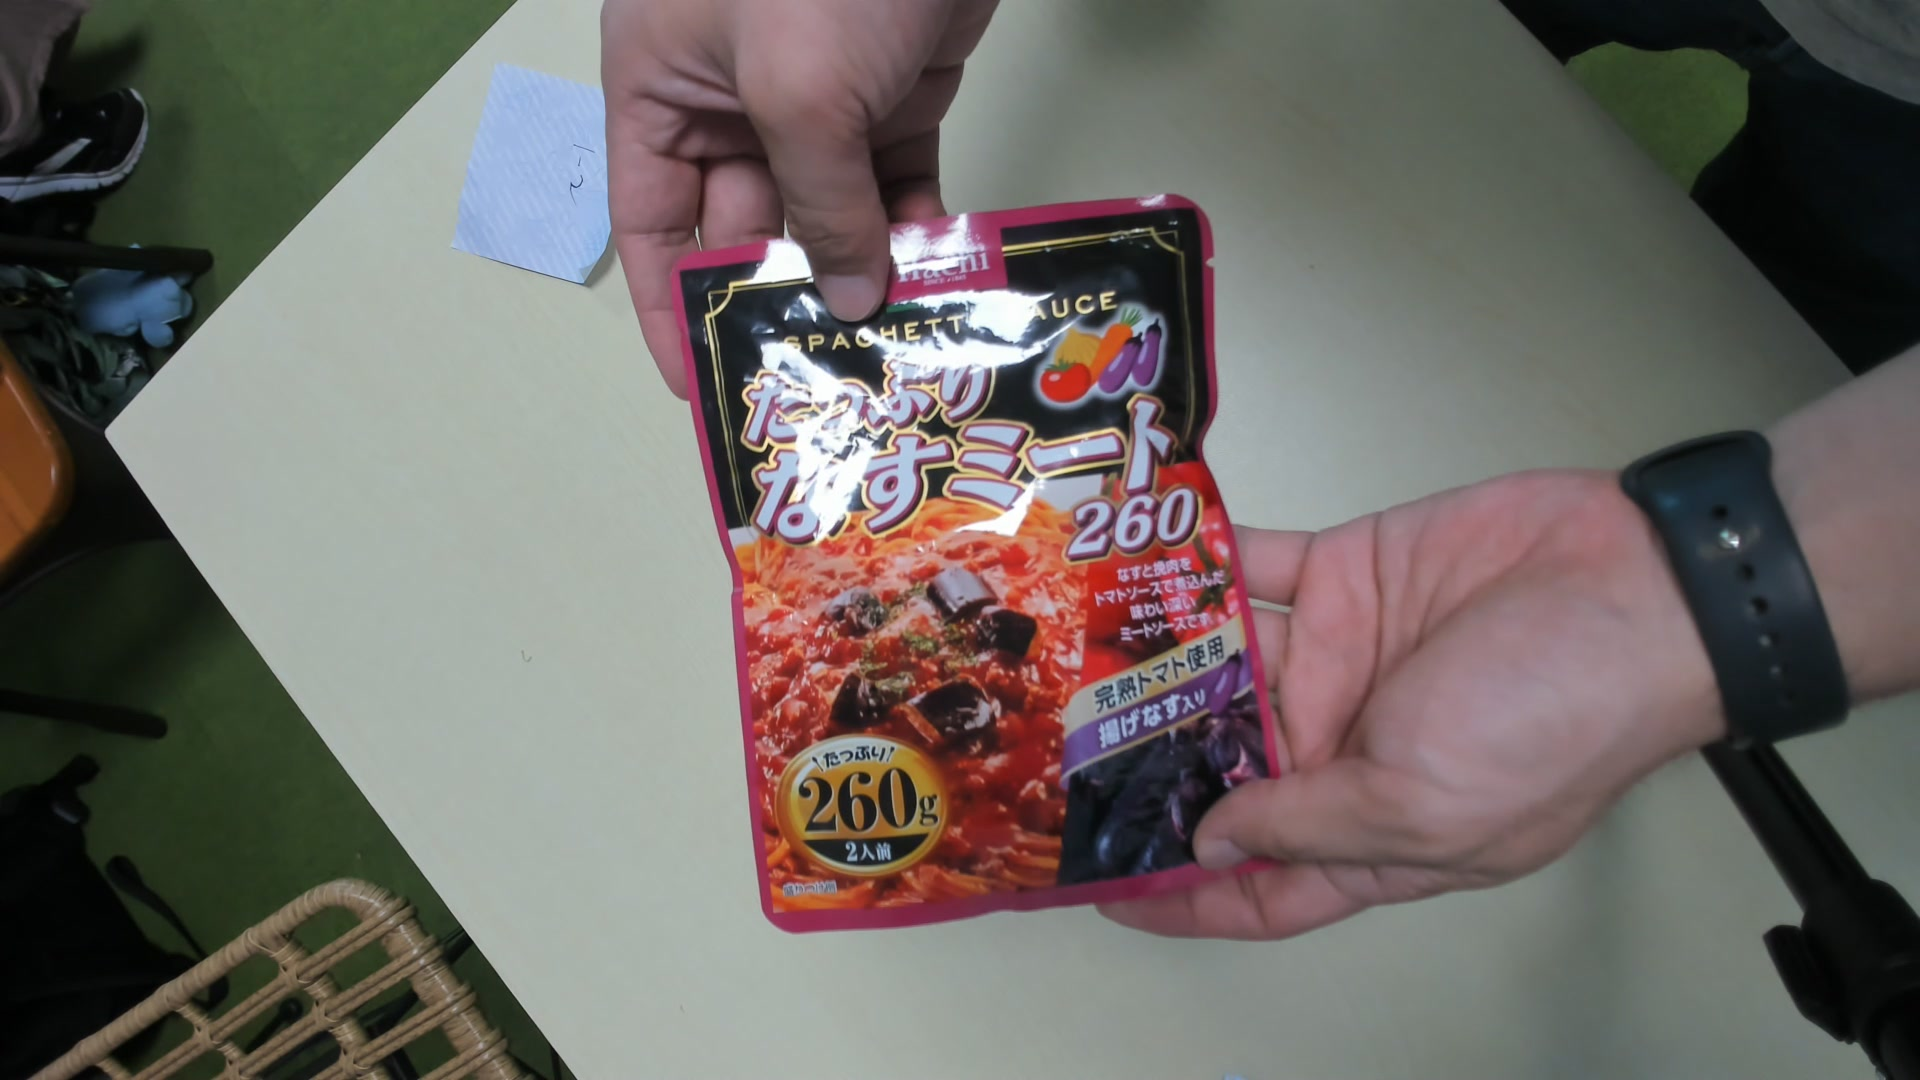PastaSauce_200-299g_NonHalal_NonHealthy: (687, 199, 1284, 934)
